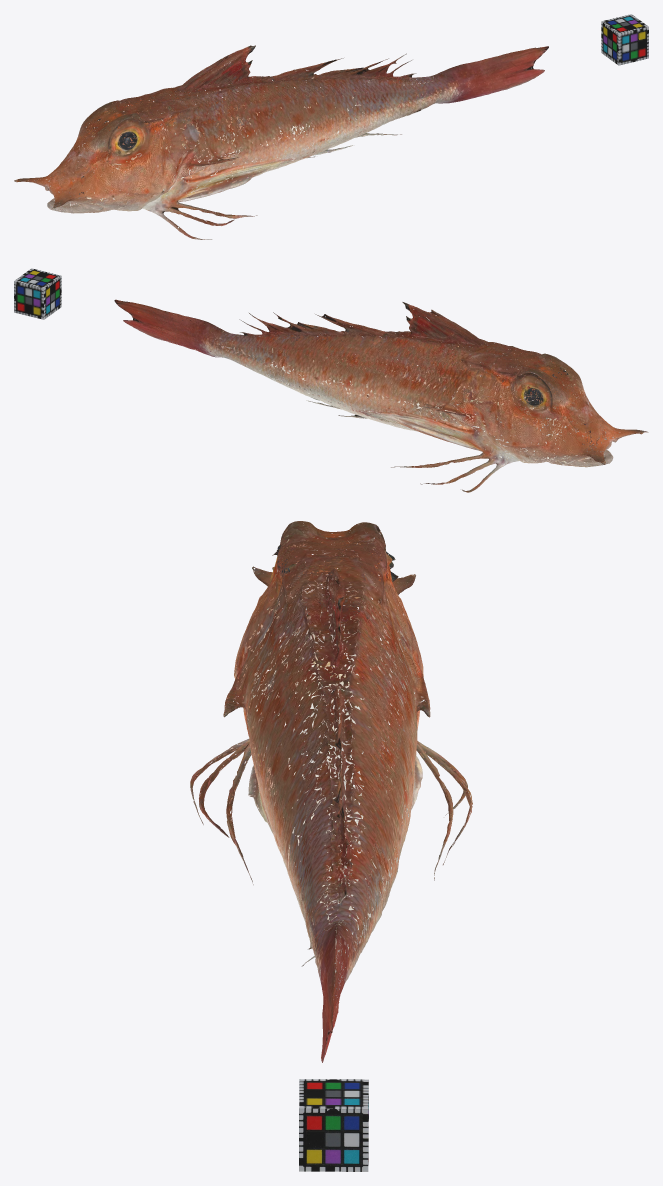
Rendered from scan_searobin.glb.
3 views of the same model, one above another, from view 1: azimuth 30°, elevation 25°; view 2: azimuth 150°, elevation 25°; view 3: azimuth 270°, elevation 25° (orthographic). The views are drawn at different scales.
Parts seen in each view (by area): view 1: Object_6, Object_10, Object_4; view 2: Object_6, Object_10, Object_4; view 3: Object_6, Object_10, Object_4.
Part boxes in pixels (x1=…): Object_6: x1=14, y1=46, x2=547, y2=239; Object_10: x1=15, y1=45, x2=548, y2=239; Object_4: x1=601, y1=14, x2=648, y2=65; Object_6: x1=115, y1=299, x2=648, y2=492; Object_10: x1=114, y1=300, x2=643, y2=492; Object_4: x1=14, y1=268, x2=61, y2=319; Object_6: x1=190, y1=521, x2=472, y2=1062; Object_10: x1=190, y1=522, x2=472, y2=1062; Object_4: x1=299, y1=1079, x2=368, y2=1171.
Bounding box in the file's own units: 11.16 × 2.69 × 2.25.
Materials: 3 (3 with a texture image).
